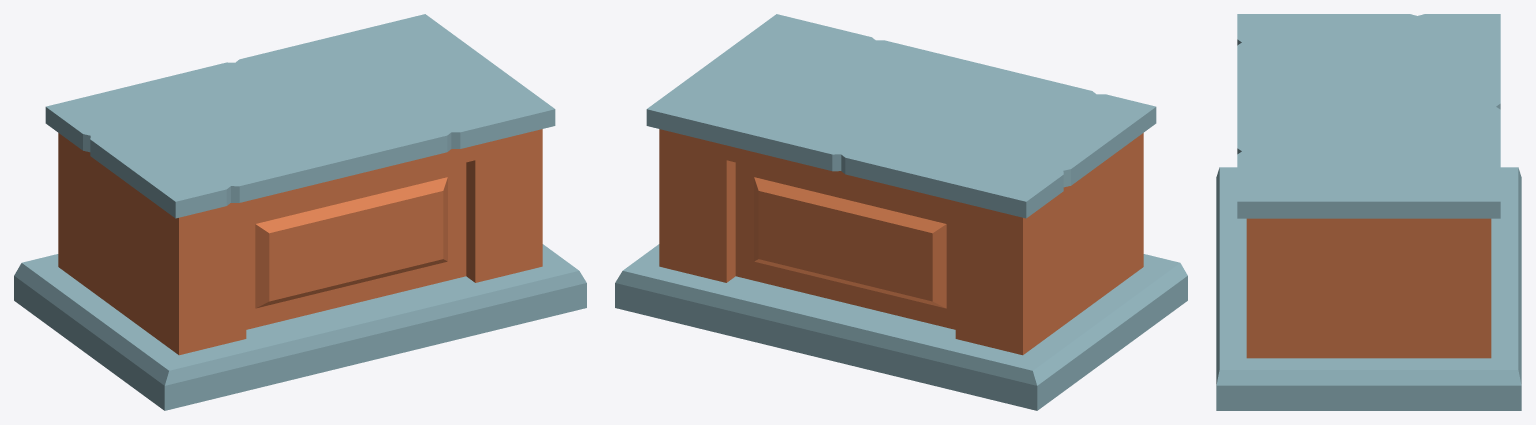
File: altarWood.fbx
3 views of the same model, side by side, from view 1: azimuth 30°, elevation 25°; view 2: azimuth 150°, elevation 25°; view 3: azimuth 270°, elevation 25° (orthographic).
Visible parts, largest first — view 1: altarWood; view 2: altarWood; view 3: altarWood.
Part boxes in pixels (x1=…): altarWood: x1=14, y1=14, x2=586, y2=410; altarWood: x1=615, y1=14, x2=1187, y2=410; altarWood: x1=1216, y1=14, x2=1521, y2=410.
Size of the model in its own units: 10.57 by 4.7 by 6.53.
